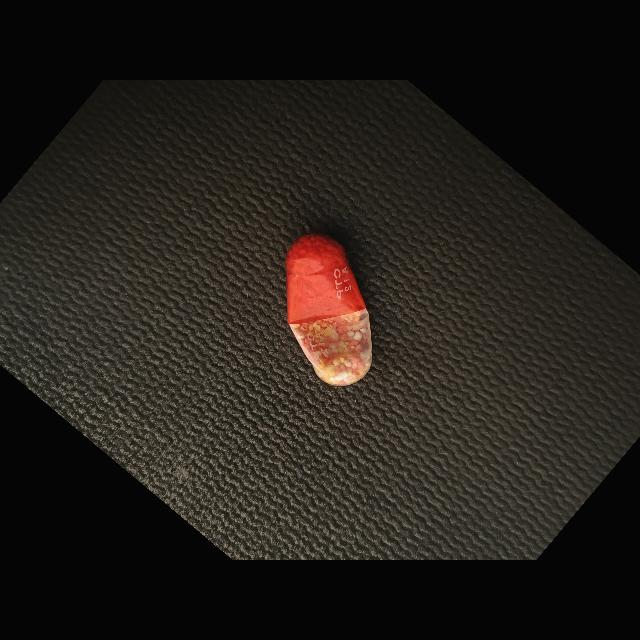Defective Capsule: (286, 233, 372, 386)
